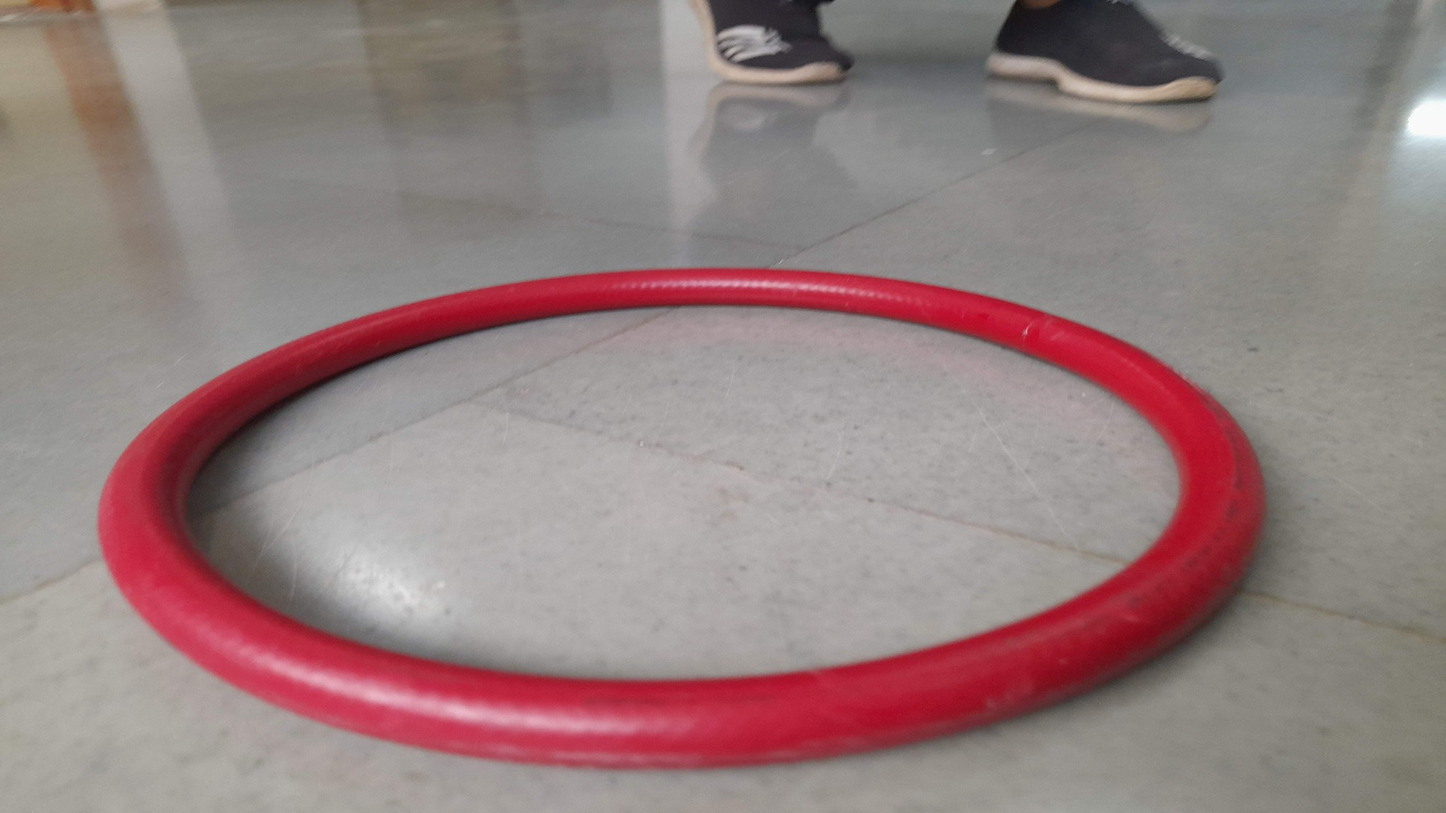Red ring: (102, 267, 1264, 766)
